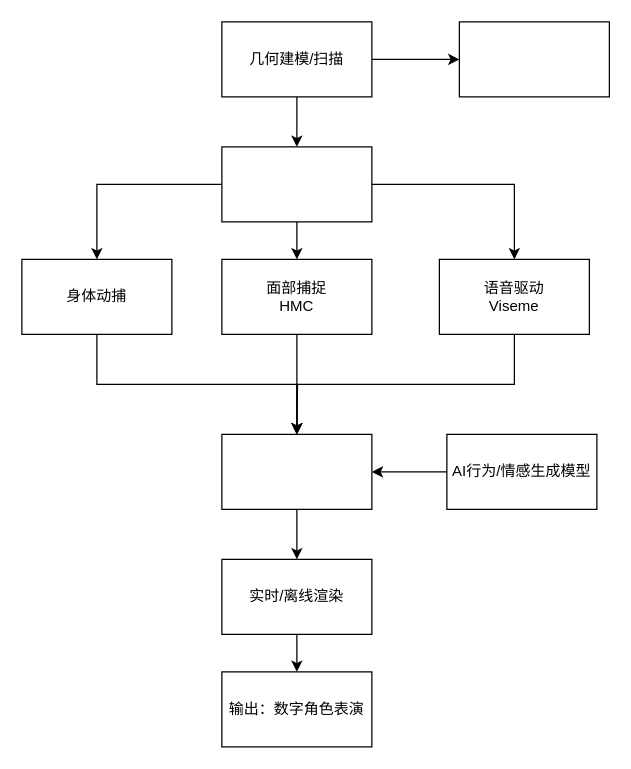
The diagram is 631 pixels wide and 769 high, and some of its shapes have lost their labels. The centre of each missing label's shape, as x and y in pixels:
"多模态融合驱动器" belongs at (296,471).
"材质/外观构建" belongs at (533,59).
"骨骼绑定/拓扑" belongs at (296,184).
